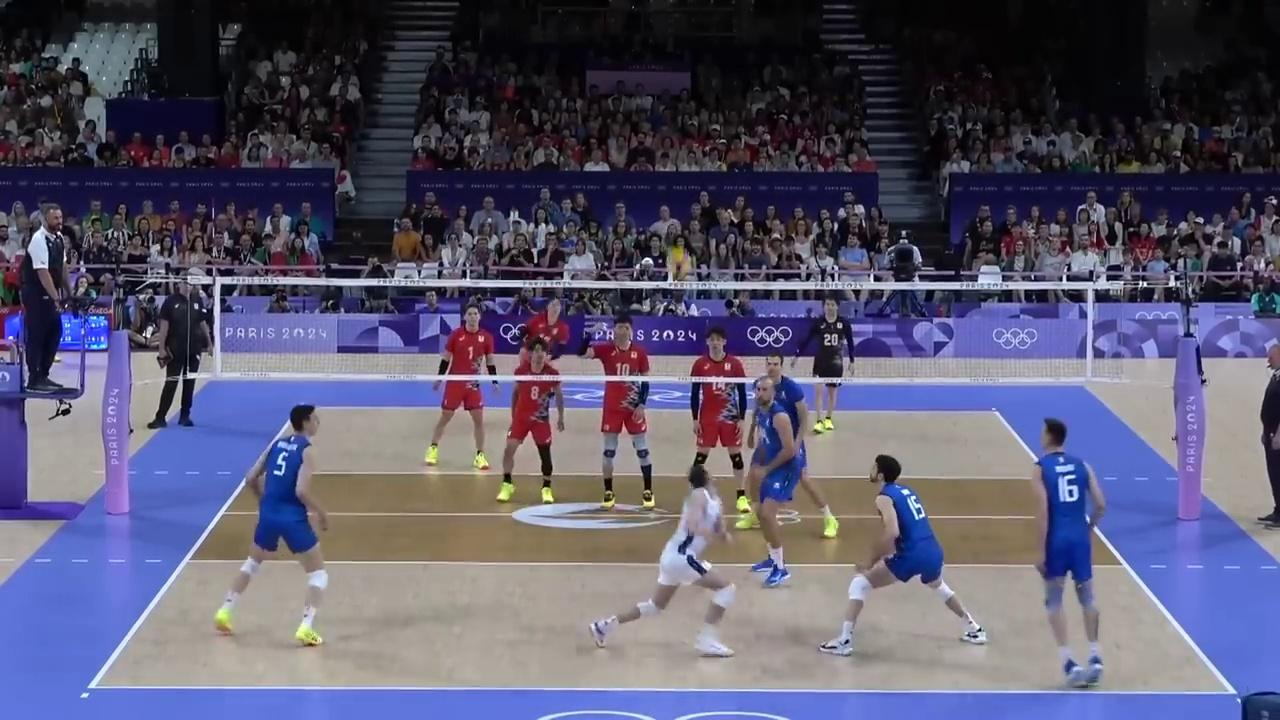ball: (668, 247, 690, 277)
